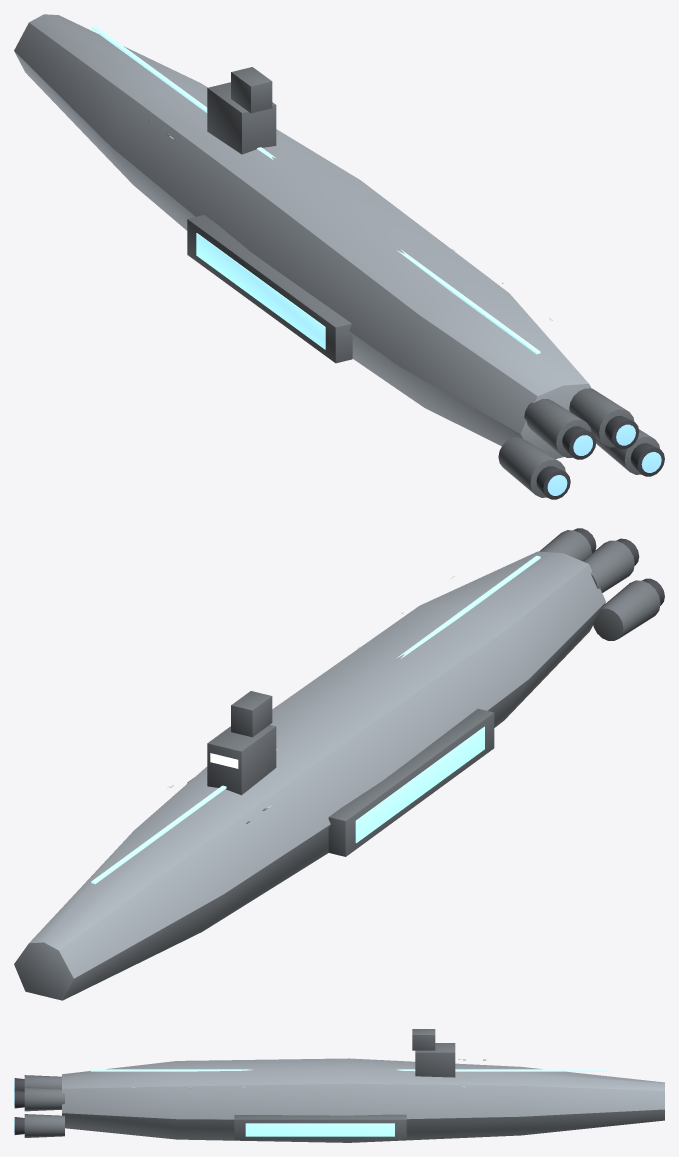
File: capital_carrier.glb
3 renders of one model, top to bottom at view 1: azimuth 30°, elevation 25°; view 2: azimuth 150°, elevation 25°; view 3: azimuth 270°, elevation 25°, orthographic. The views are drawn at different scales.
Parts seen in each view (by area): view 1: CarrierHull; view 2: CarrierHull; view 3: CarrierHull.
Part boxes in pixels (x1,y1,x2,y2): CarrierHull: [14, 14, 664, 499]; CarrierHull: [14, 528, 664, 1000]; CarrierHull: [14, 1029, 664, 1142].
Bounding box in the file's own units: 37.4 × 38 × 227.
